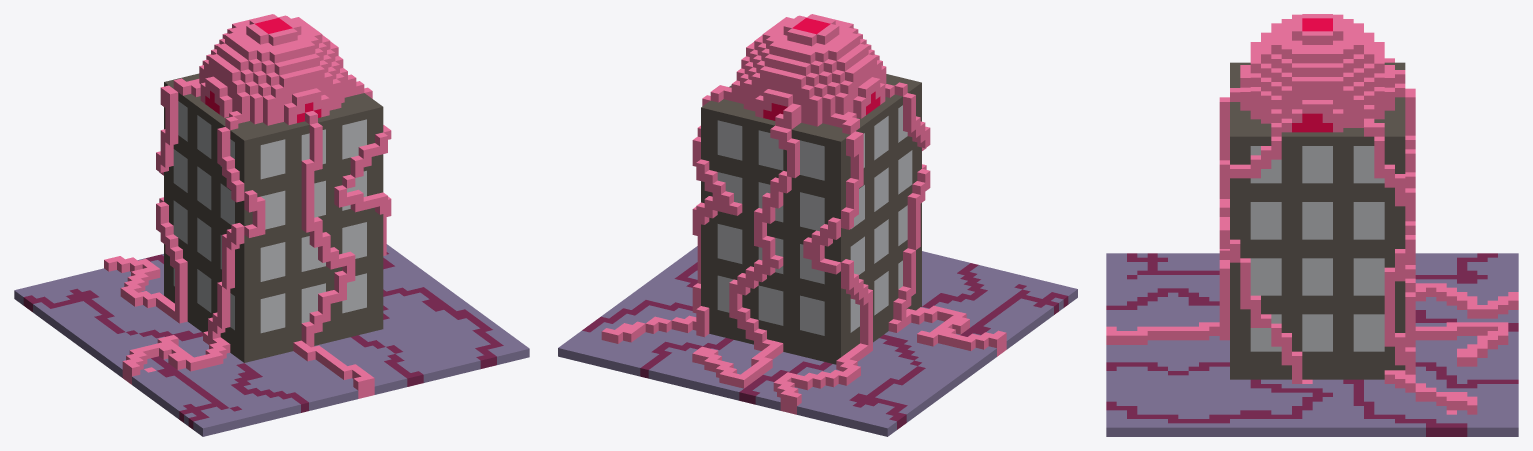
The model's file is OctoBuilding.obj.
The picture shows the model from 3 angles, left to right: view 1: azimuth 30°, elevation 25°; view 2: azimuth 150°, elevation 25°; view 3: azimuth 270°, elevation 25°; orthographic projection. The views are drawn at different scales.
Size of the model in its own units: 40 by 35 by 40.
